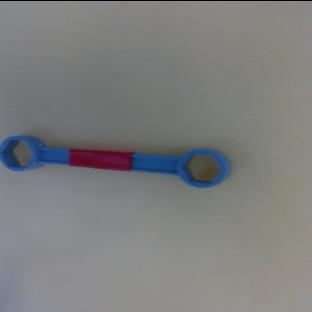part_3_good: (0, 134, 233, 188)
